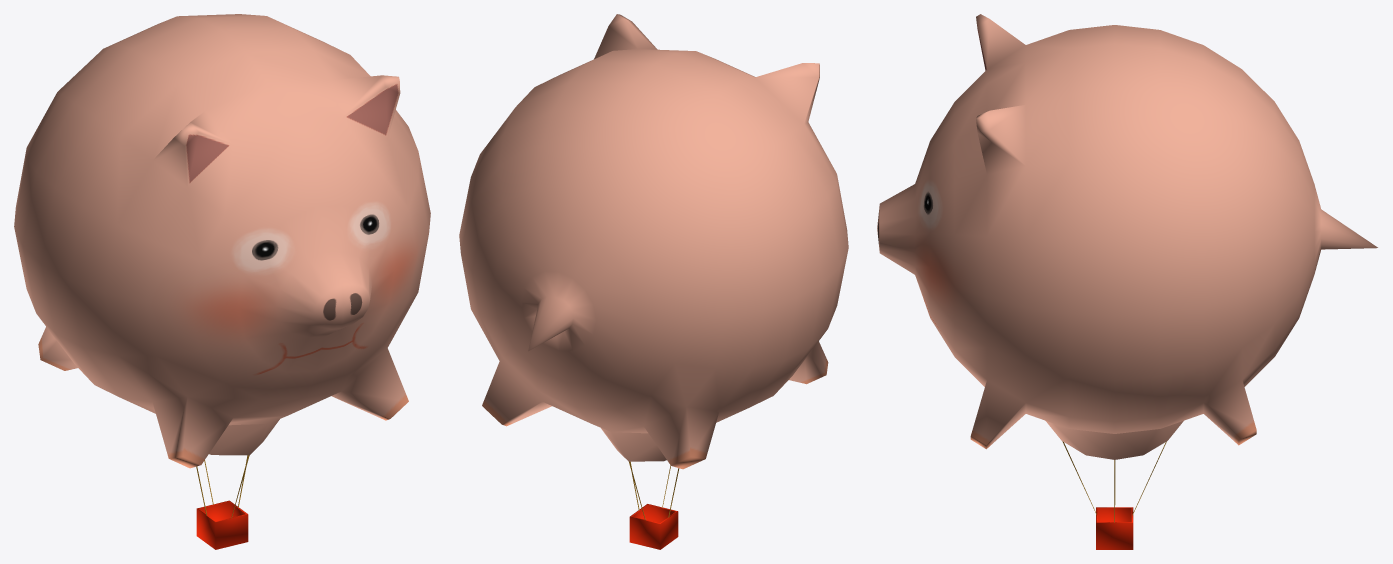
File: Piggy_HotAirBalloon.fbx
3 views of the same model, side by side, from view 1: azimuth 30°, elevation 25°; view 2: azimuth 150°, elevation 25°; view 3: azimuth 270°, elevation 25° (orthographic). The views are drawn at different scales.
Visible parts, largest first — view 1: Piggy_HotairBalloon; view 2: Piggy_HotairBalloon; view 3: Piggy_HotairBalloon.
Boxes of the visible parts, left/top/right/bottom form: Piggy_HotairBalloon: left=14, top=14, right=430, bottom=549; Piggy_HotairBalloon: left=459, top=14, right=848, bottom=549; Piggy_HotairBalloon: left=877, top=14, right=1377, bottom=549.
Bounding box in the file's own units: 1725 × 2315 × 2112.
